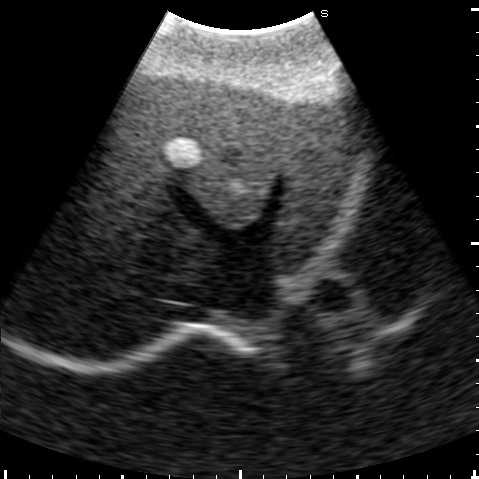S2: (270, 128, 355, 272)
S4: (123, 76, 296, 227)
S7: (37, 255, 168, 358)
S8: (77, 112, 212, 280)
Tumor: (162, 139, 202, 168)
